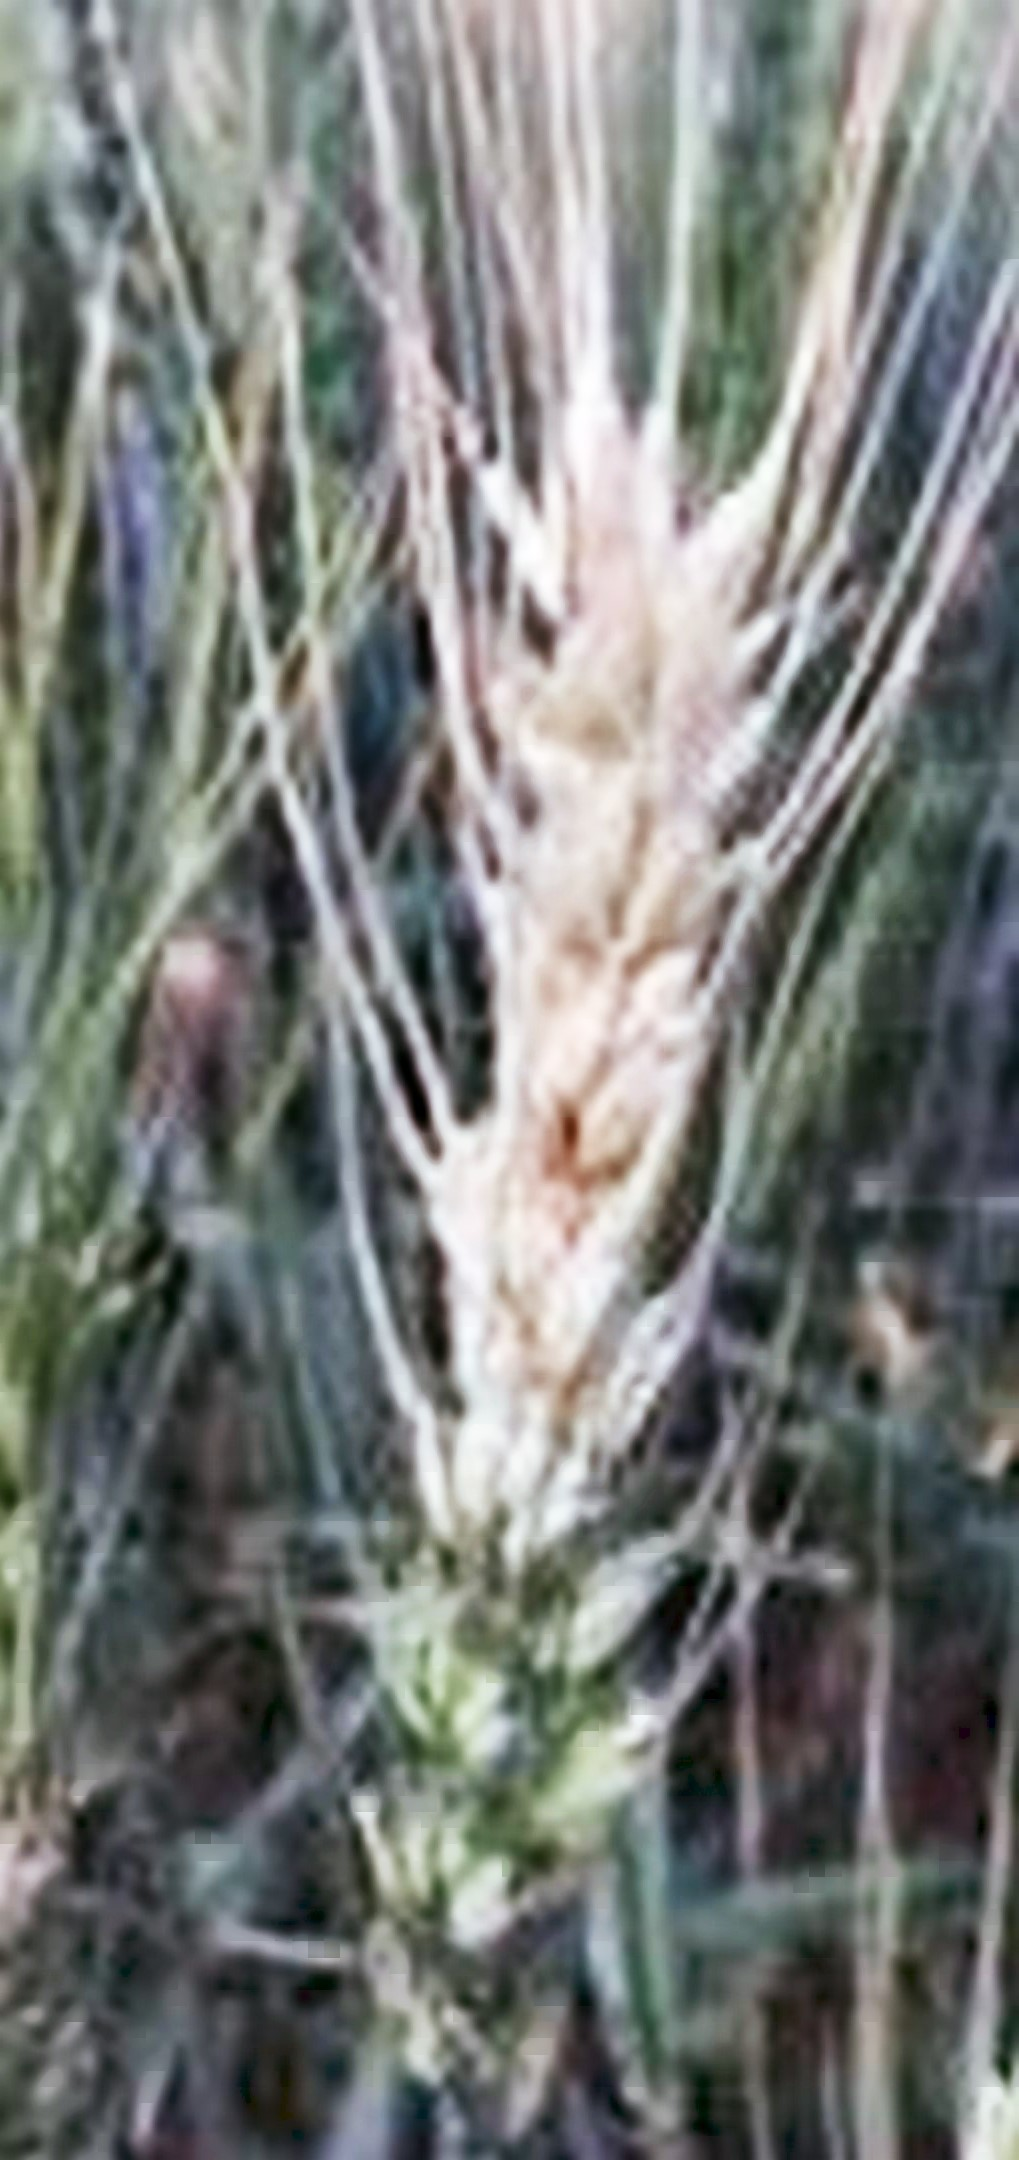Wheat scab: (380, 466, 843, 2004)
